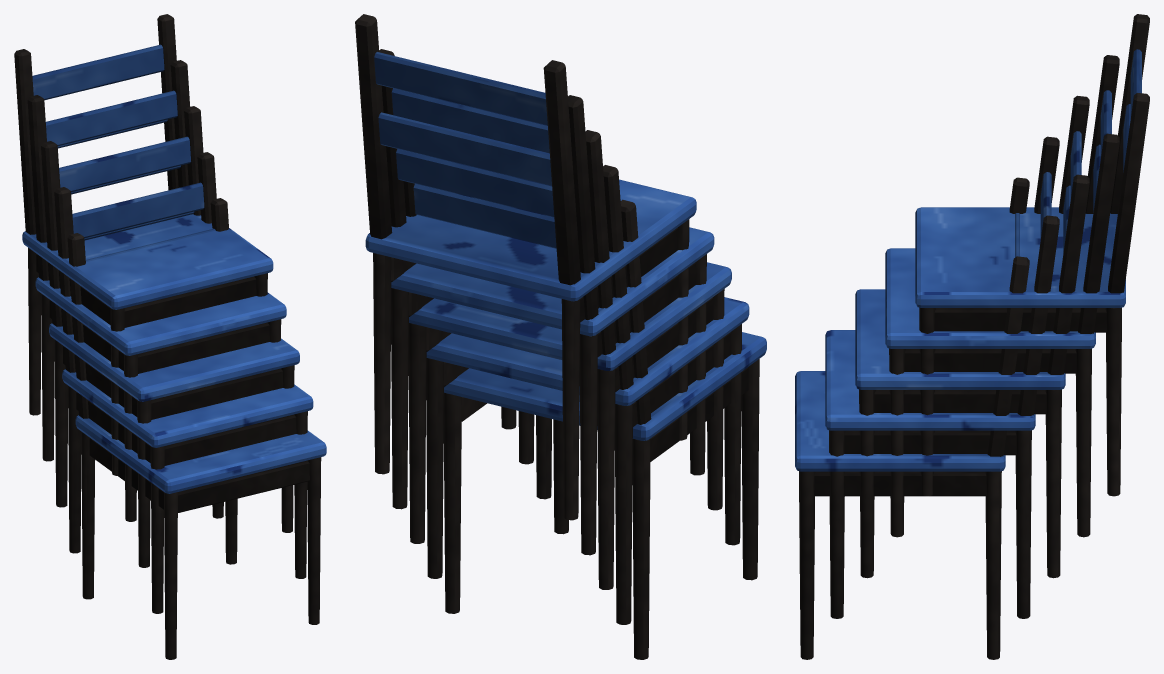
Rendered from chair_stack.glb.
The picture shows the model from 3 angles, left to right: view 1: azimuth 30°, elevation 25°; view 2: azimuth 150°, elevation 25°; view 3: azimuth 270°, elevation 25°; orthographic projection. The views are drawn at different scales.
Parts seen in each view (by area): view 1: chair_stack; view 2: chair_stack; view 3: chair_stack.
Part boxes in pixels (x1,y1,x2,y2): chair_stack: (14, 14, 326, 659); chair_stack: (355, 14, 766, 659); chair_stack: (795, 14, 1149, 659).
Bounding box in the file's own units: 0.42 × 1.24 × 0.7078.
Materials: 2 (2 with a texture image).
